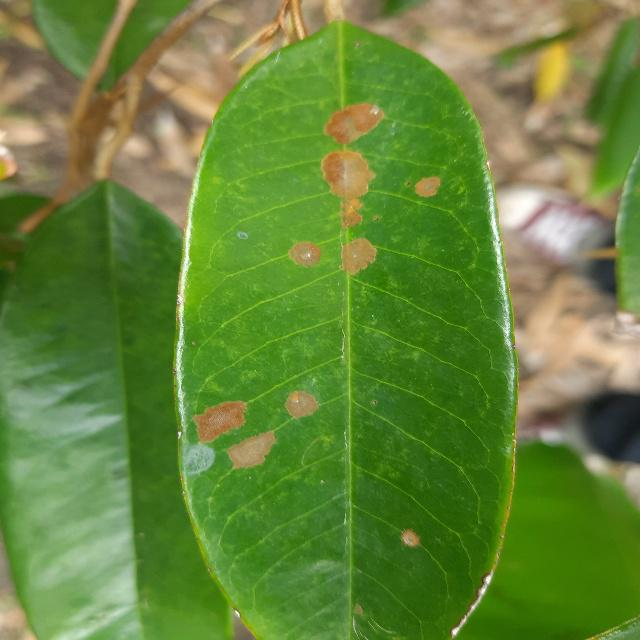Algal Leaf Spot: (171, 13, 523, 639)
